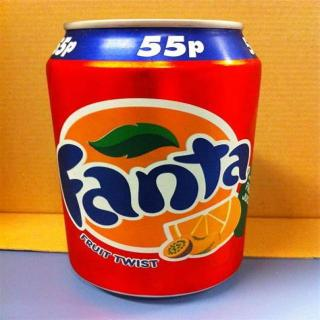Anorganik: (44, 13, 269, 304)
